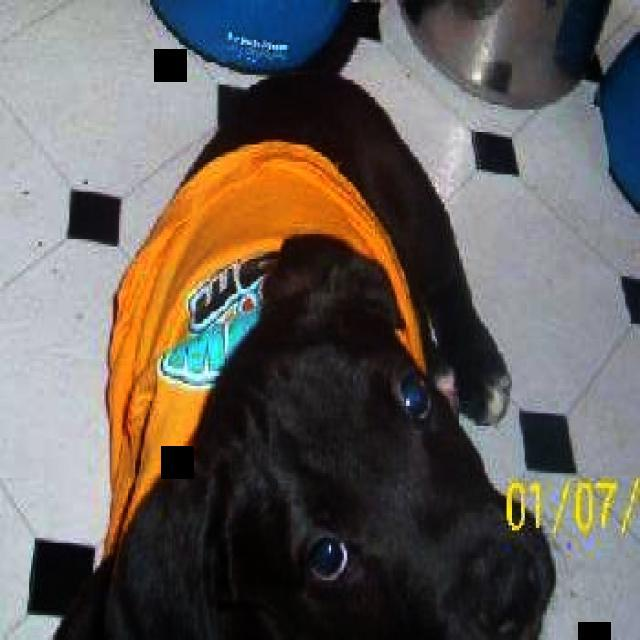adult_dog: (50, 145, 553, 640)
